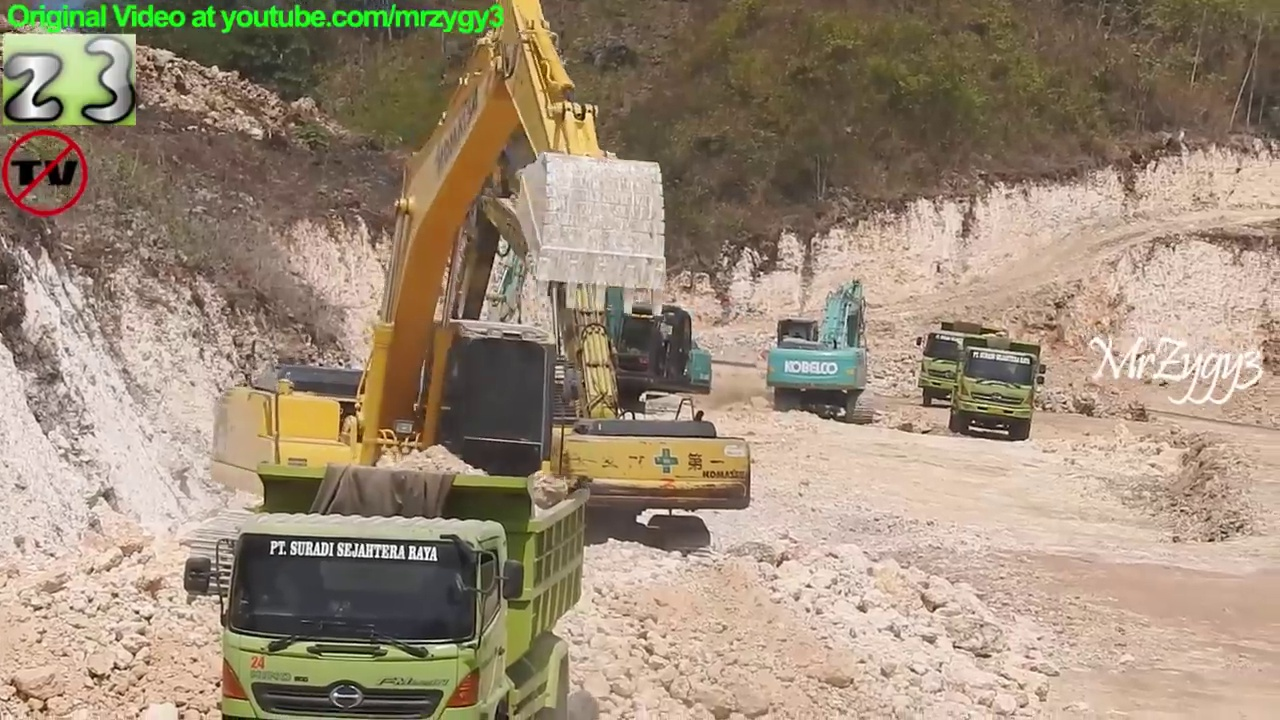excavator: (184, 2, 672, 634), (303, 98, 758, 564), (430, 126, 719, 438), (761, 275, 884, 430)
truck: (185, 444, 596, 720), (946, 333, 1050, 447), (913, 317, 1016, 413)
